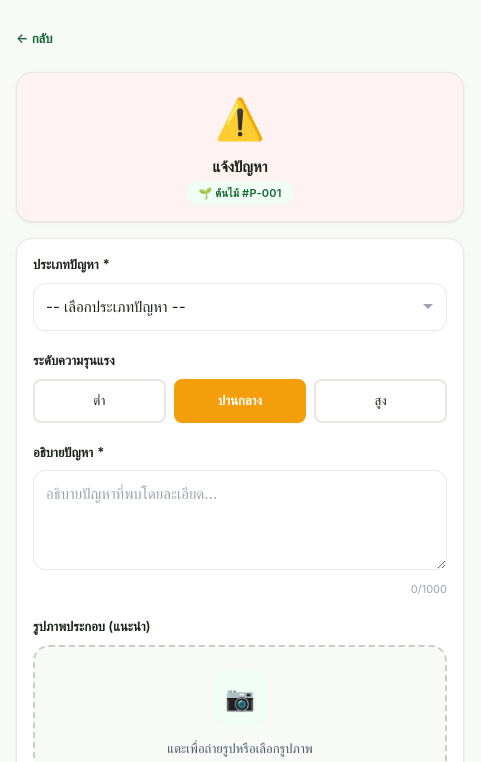
ProblemReport › successful submission › shows loading text while submitting
Select "🐛 แมลง/ศัตรูพืช" in the dropdown at (240, 307), box [33, 282, 447, 331]
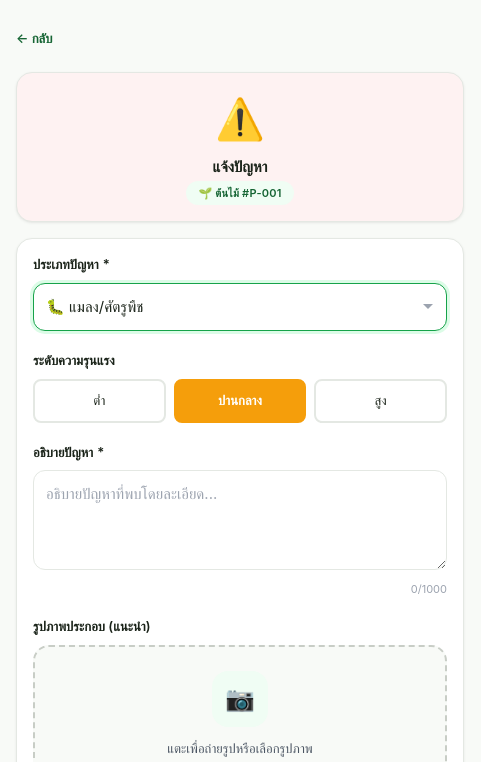
Type "ทดสอบ" into the text box labelled "อธิบายปัญหา *".
click(240, 520); type("ทดสอบ")  # box [33, 470, 447, 570]
(page scrolled)
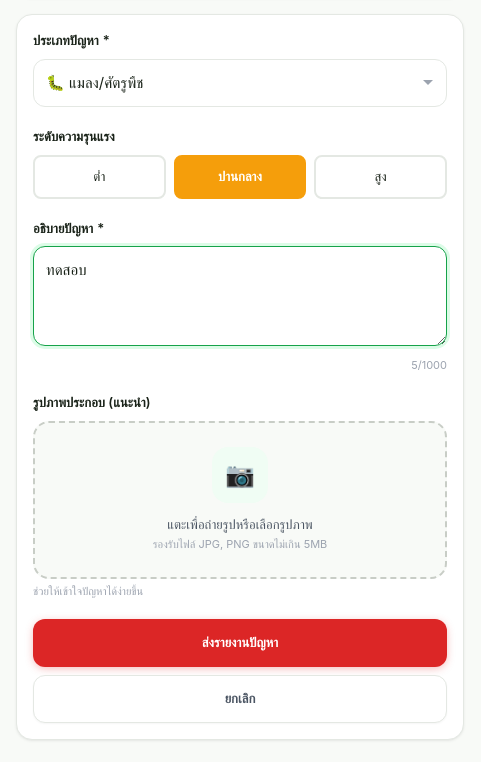
Click the button "ส่งรายงานปัญหา".
click(240, 643)  # box [33, 619, 447, 667]
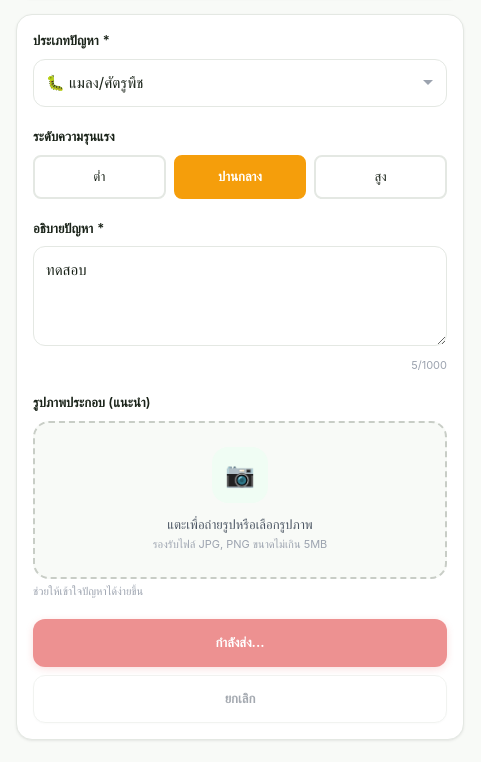
Now the button "กำลังส่ง..." is shown, box [33, 619, 447, 667]
